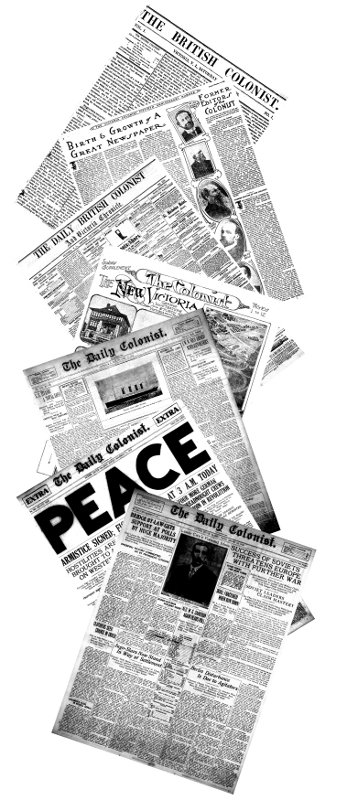news_paper: (4, 8, 337, 276), (9, 423, 323, 705), (48, 479, 321, 800), (11, 206, 328, 467), (18, 331, 316, 606), (34, 79, 320, 348), (55, 245, 306, 453)
